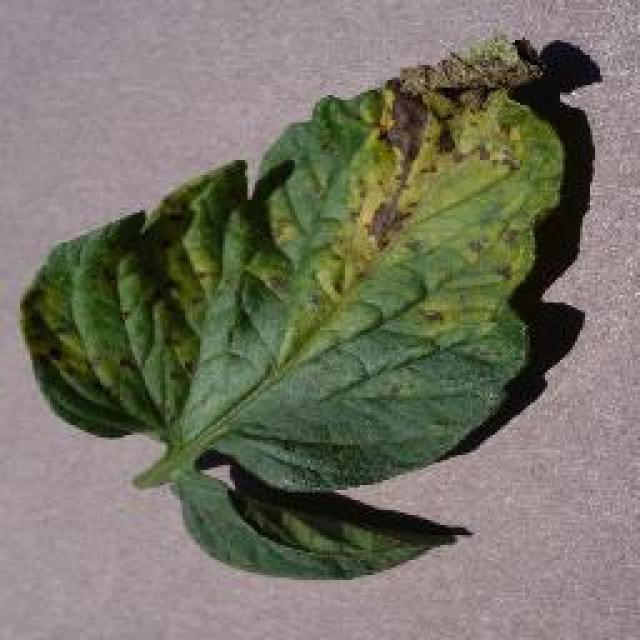Tomato Septoria spot leaf: (20, 32, 562, 490)
